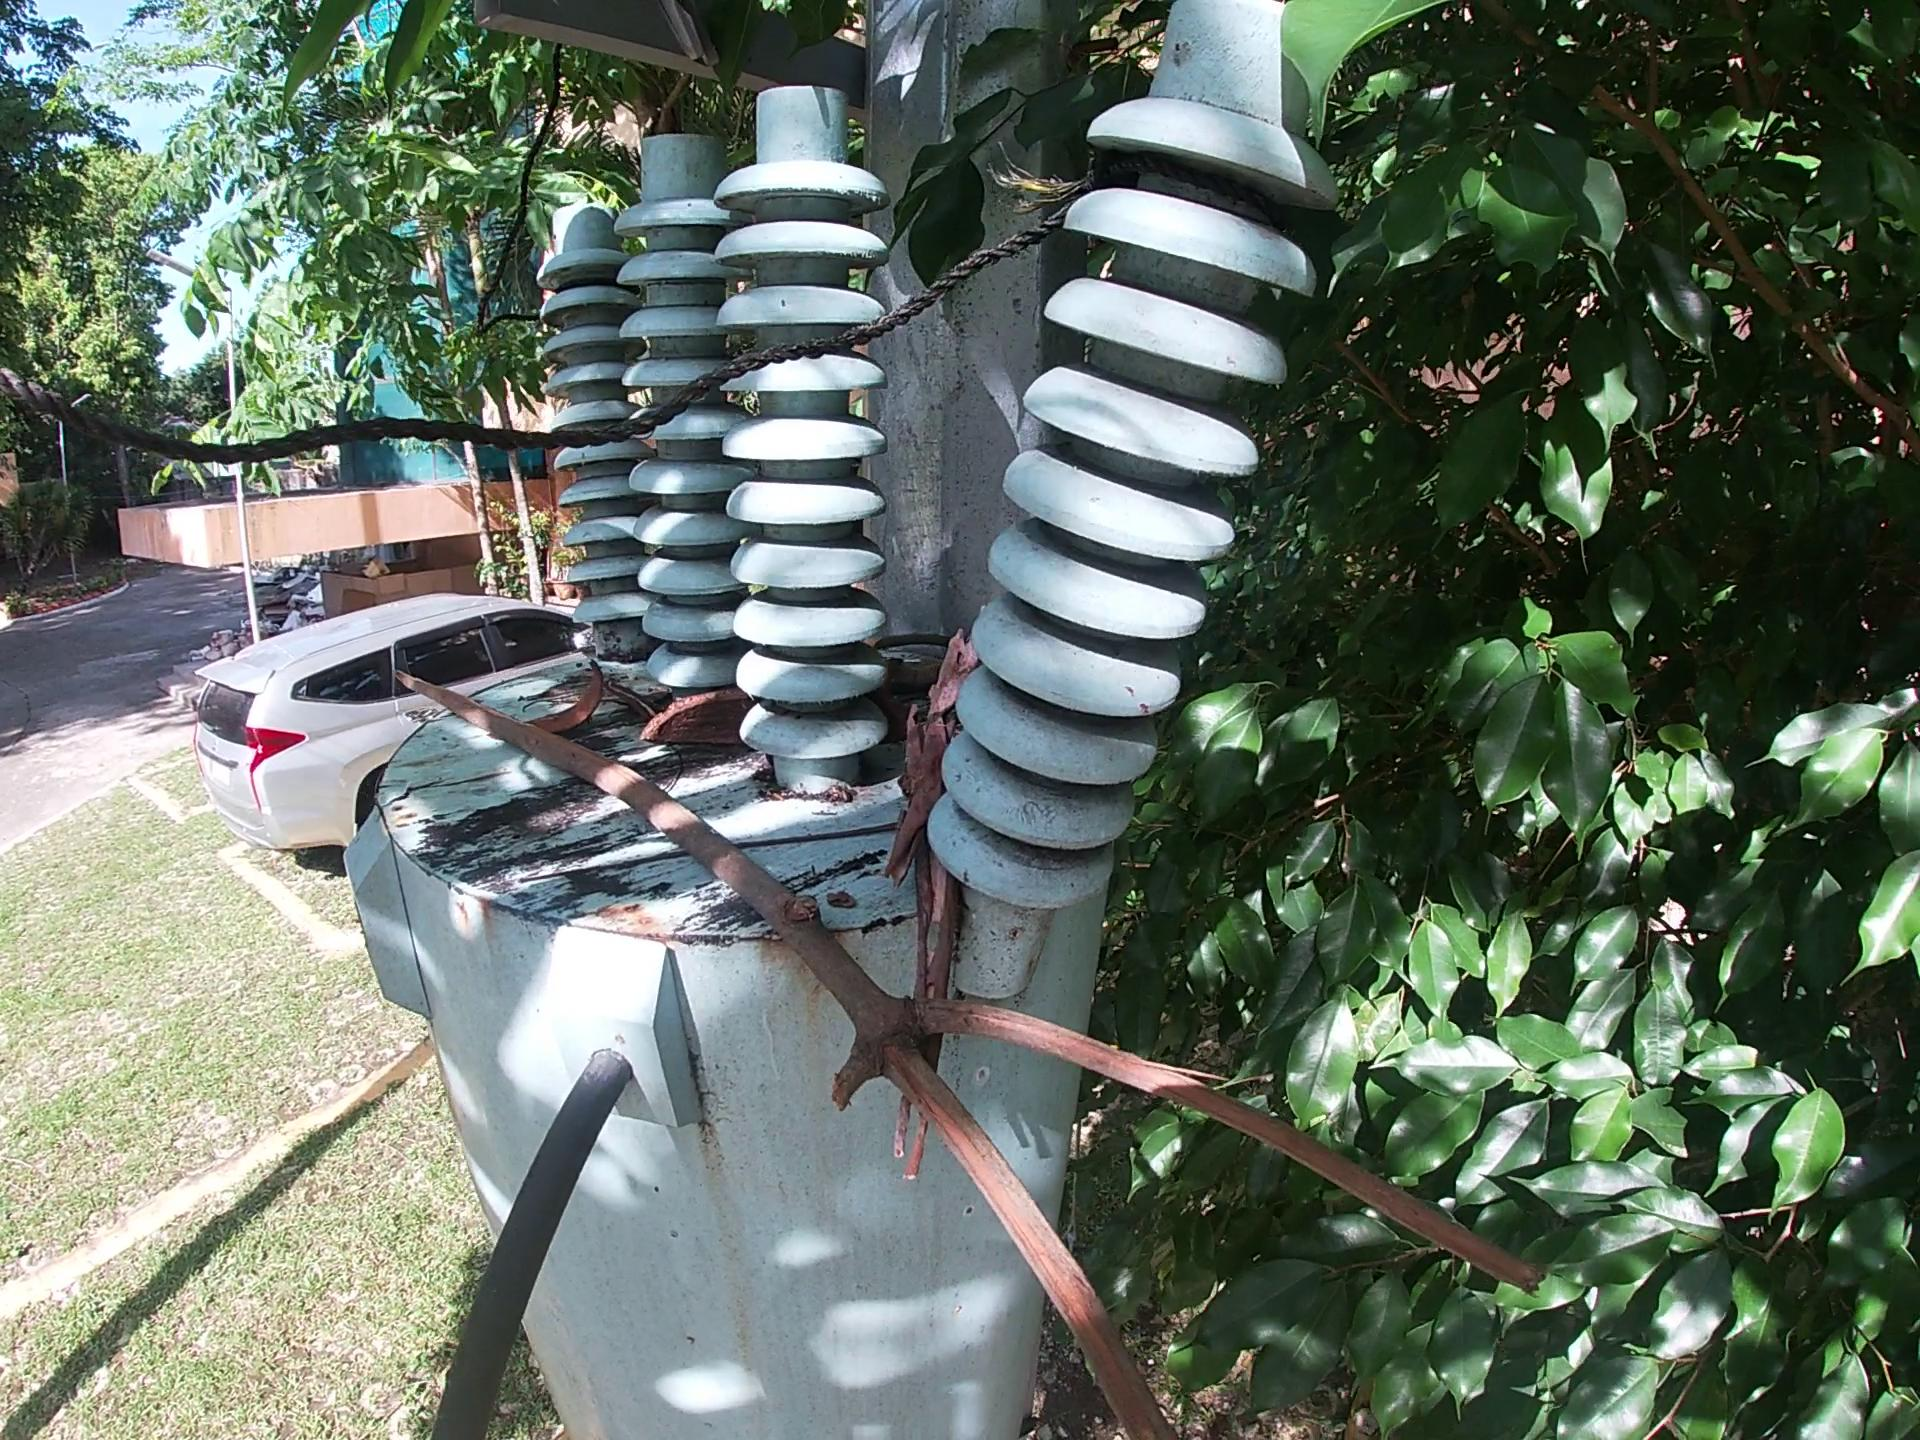mahogany fruit: (633, 687, 757, 756), (528, 656, 612, 741)
tree branch: (384, 656, 1556, 1432), (878, 625, 992, 1193), (878, 625, 968, 655)
